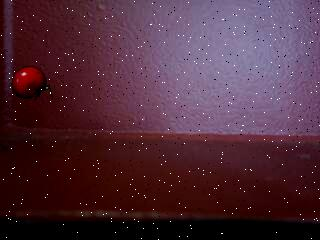Tomato: (10, 66, 57, 101)
